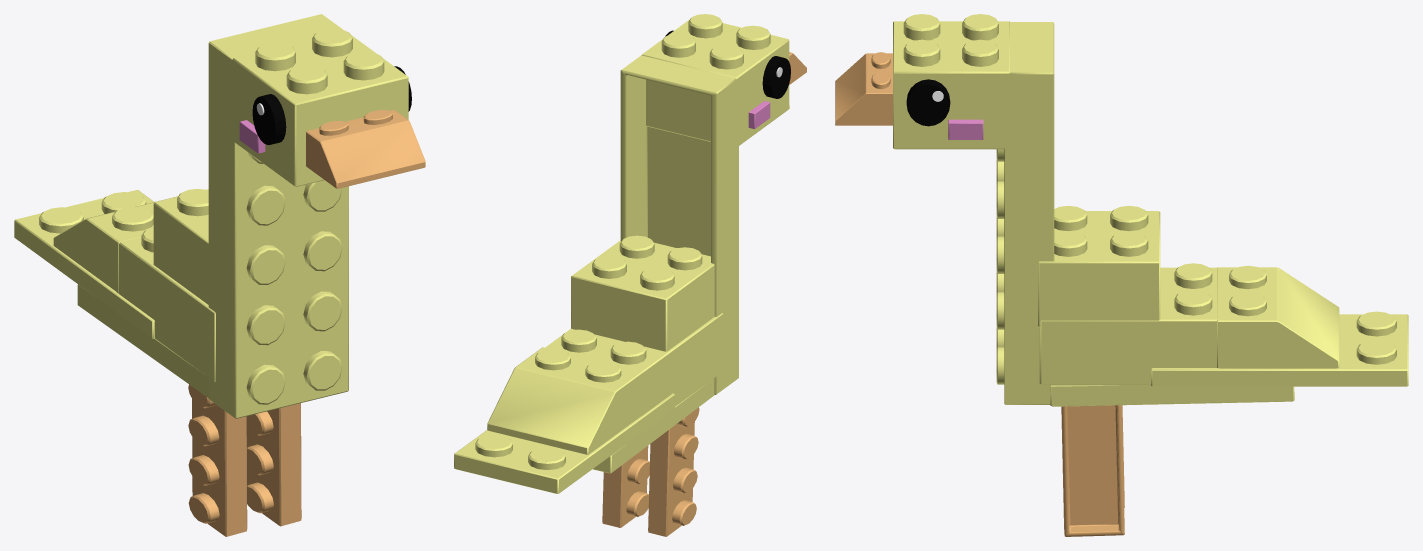
3 renders of one model, left to right at view 1: azimuth 30°, elevation 25°; view 2: azimuth 150°, elevation 25°; view 3: azimuth 270°, elevation 25°, orthographic. The views are drawn at different scales.
Parts seen in each view (by area): view 1: L2x24, L2x25, L1x4F1, L2x17, L2x2Slope9, L1x4F2, L2x4F2, L2x26, L2x2Slope8, L2x4F1, L2x2Circle3, L2x4Flat15; view 2: L2x24, L2x26, L2x2Slope8, L2x25, L2x17, L2x4F2, L1x4F1, L1x4F2, L2x4F1, L2x2Circle3, L2x4Flat15; view 3: L2x24, L2x17, L2x26, L2x25, L2x2Slope8, L2x4F2, L1x4F2, L2x4F1, L2x2Slope9, L2x2Circle4, L2x4Flat14.
Part boxes in pixels (x1=…): L2x24: x1=208, y1=14, x2=348, y2=418; L2x25: x1=232, y1=28, x2=408, y2=186; L1x4F1: x1=188, y1=384, x2=247, y2=536; L2x17: x1=116, y1=227, x2=215, y2=381; L2x2Slope9: x1=306, y1=110, x2=425, y2=188; L1x4F2: x1=246, y1=403, x2=301, y2=526; L2x4F2: x1=14, y1=190, x2=154, y2=338; L2x26: x1=153, y1=189, x2=208, y2=304; L2x2Slope8: x1=53, y1=196, x2=178, y2=293; L2x4F1: x1=77, y1=284, x2=208, y2=397; L2x2Circle3: x1=252, y1=94, x2=286, y2=144; L2x4Flat15: x1=239, y1=120, x2=265, y2=153; L2x24: x1=620, y1=55, x2=738, y2=394; L2x26: x1=571, y1=235, x2=714, y2=351; L2x2Slope8: x1=487, y1=347, x2=643, y2=454; L2x25: x1=641, y1=14, x2=789, y2=146; L2x17: x1=545, y1=313, x2=723, y2=416; L2x4F2: x1=454, y1=393, x2=674, y2=493; L1x4F1: x1=648, y1=407, x2=699, y2=536; L1x4F2: x1=602, y1=445, x2=649, y2=527; L2x4F1: x1=593, y1=378, x2=714, y2=473; L2x2Circle3: x1=762, y1=56, x2=790, y2=98; L2x4Flat15: x1=748, y1=101, x2=770, y2=128; L2x24: x1=996, y1=22, x2=1054, y2=404; L2x17: x1=1039, y1=263, x2=1217, y2=385; L2x26: x1=1038, y1=205, x2=1160, y2=326; L2x25: x1=893, y1=14, x2=1009, y2=149; L2x2Slope8: x1=1217, y1=265, x2=1339, y2=368; L2x4F2: x1=1151, y1=311, x2=1408, y2=386; L1x4F2: x1=1061, y1=405, x2=1124, y2=536; L2x4F1: x1=1050, y1=385, x2=1294, y2=406; L2x2Slope9: x1=835, y1=52, x2=892, y2=125; L2x2Circle4: x1=906, y1=79, x2=950, y2=126; L2x4Flat14: x1=948, y1=119, x2=983, y2=139.
Size of the model in its own units: 0.8983 by 3.23 by 3.47.
